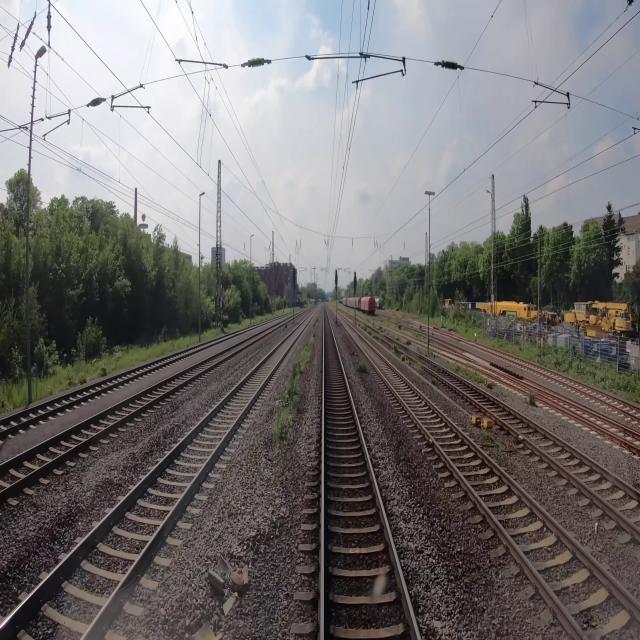Plant: (269, 320, 318, 440), (454, 364, 492, 388), (372, 317, 420, 336), (363, 319, 390, 335), (362, 326, 378, 340), (482, 435, 496, 447), (528, 394, 537, 409), (358, 363, 368, 374), (392, 342, 398, 351)
